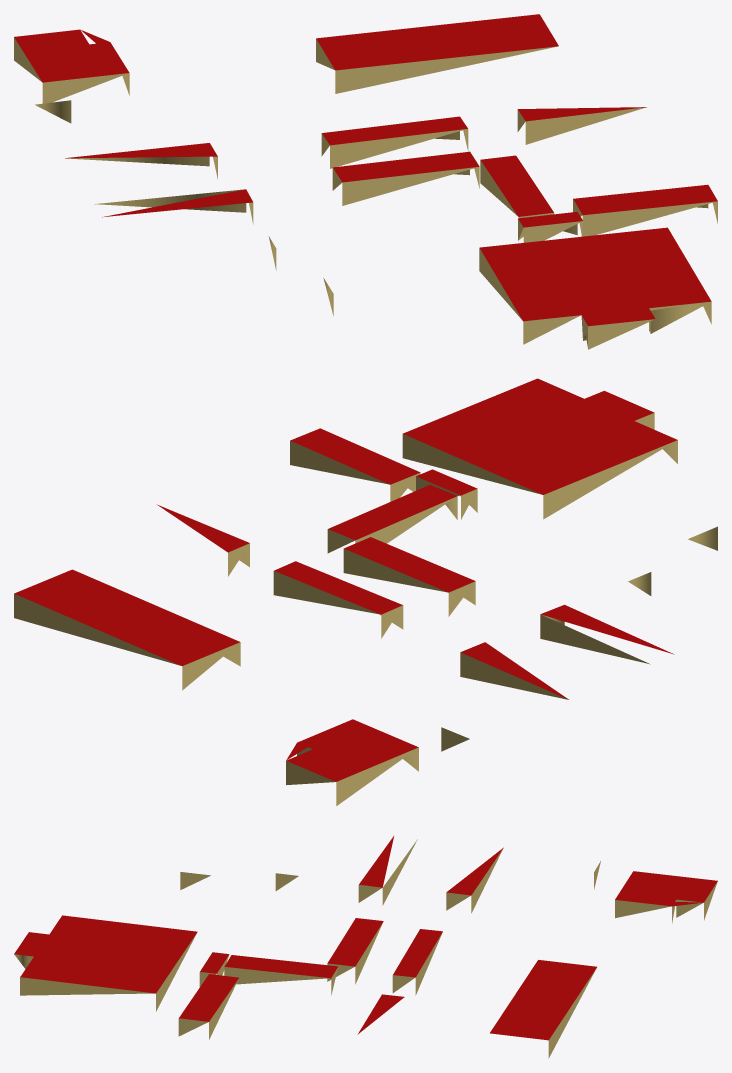
The picture shows the model from 3 angles, top to bottom: view 1: azimuth 30°, elevation 25°; view 2: azimuth 150°, elevation 25°; view 3: azimuth 270°, elevation 25°; orthographic projection. The views are drawn at different scales.
Bounding box in the file's own units: 179 × 7.5 × 260.
